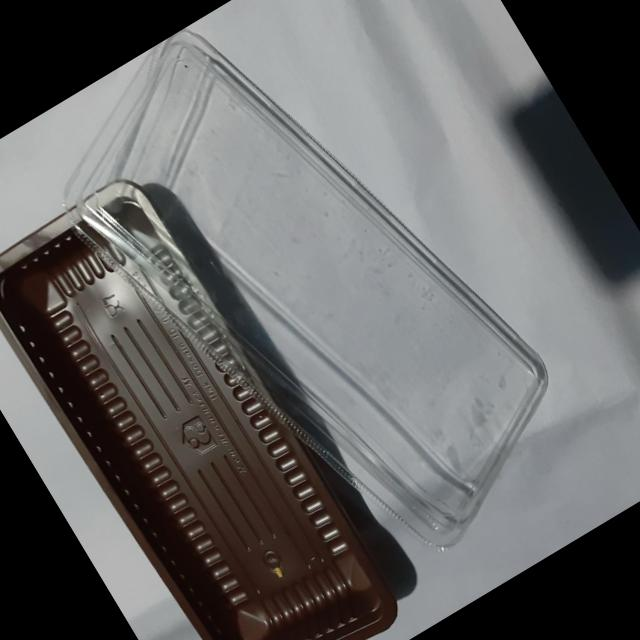KemasanPlastik: (0, 175, 408, 640)
